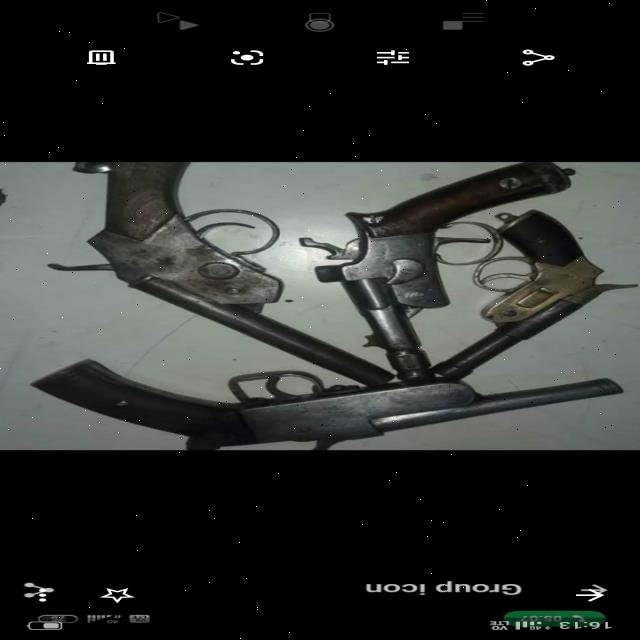gun: (0, 161, 636, 452)
